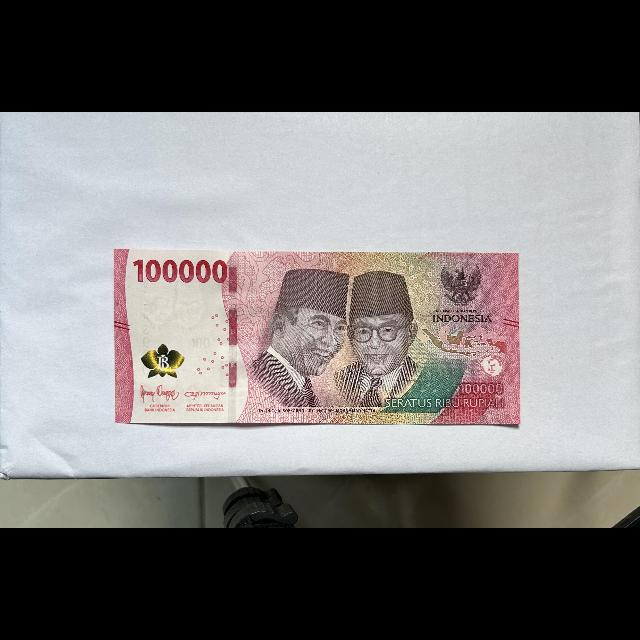Asli-100k: (113, 247, 522, 428)
Tinta-Asli-100k: (141, 343, 186, 379)
